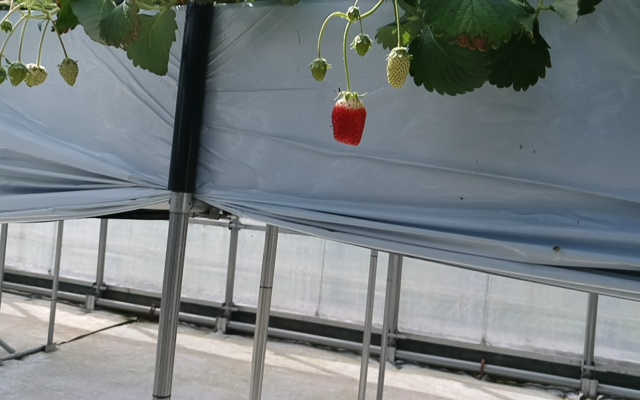GreenStrawberry: (382, 44, 414, 92), (5, 59, 30, 90), (57, 57, 81, 87), (24, 60, 48, 87), (308, 57, 329, 84), (352, 33, 371, 59)
MatureStrawberry: (330, 89, 369, 148)
